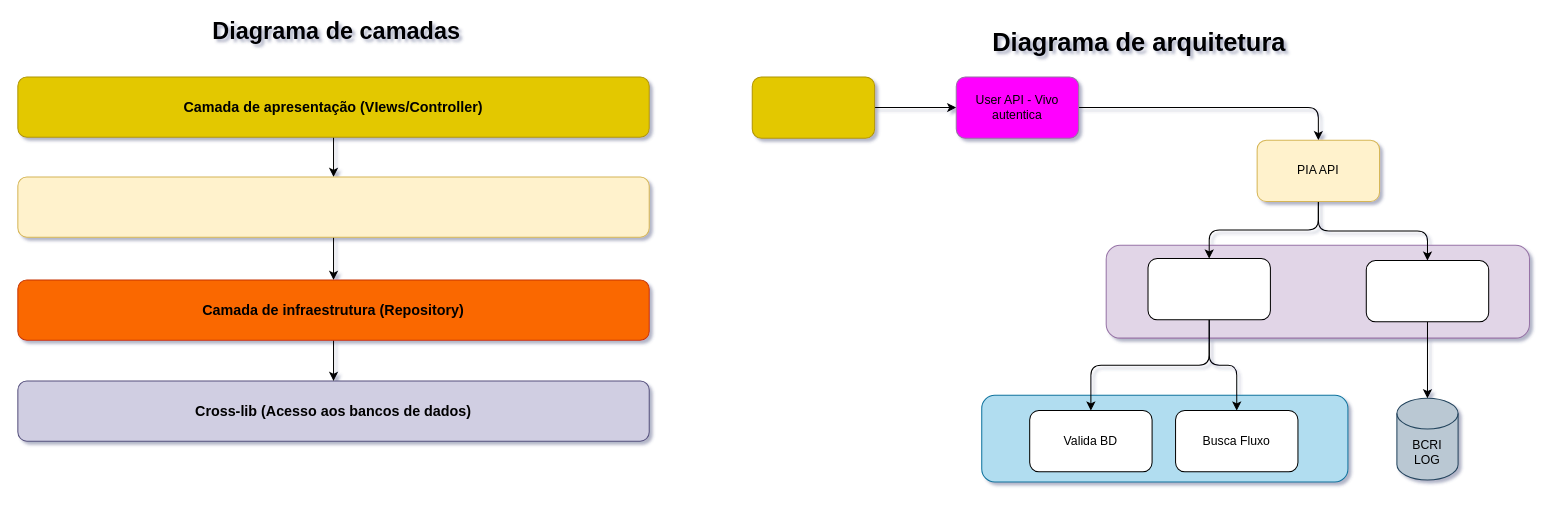
This 1553x506 diagram has some shape labels left out. The centre of each missing label's shape, as x and y in pixels:
"APP - Front end" goes at pixel 813 107.
"Camada de aplicação (Service)" goes at pixel 333 206.
"Carimba BD" goes at pixel 1427 291.
"Consulta BD" goes at pixel 1208 289.
